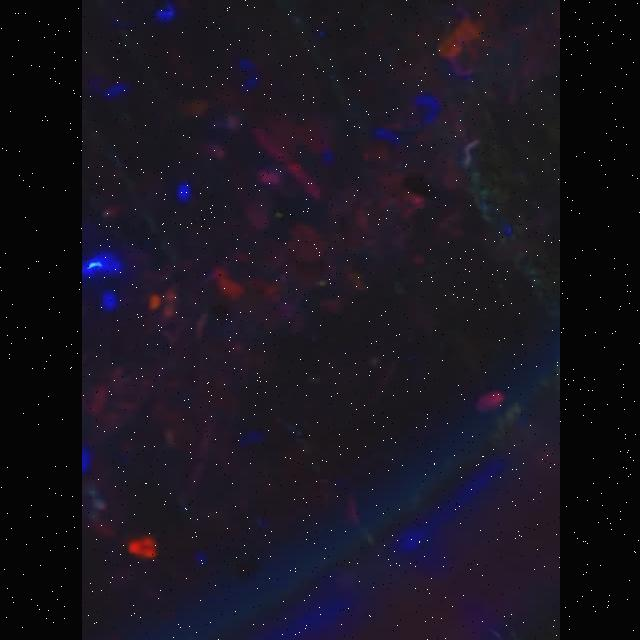Fragment: (128, 538, 156, 558)
